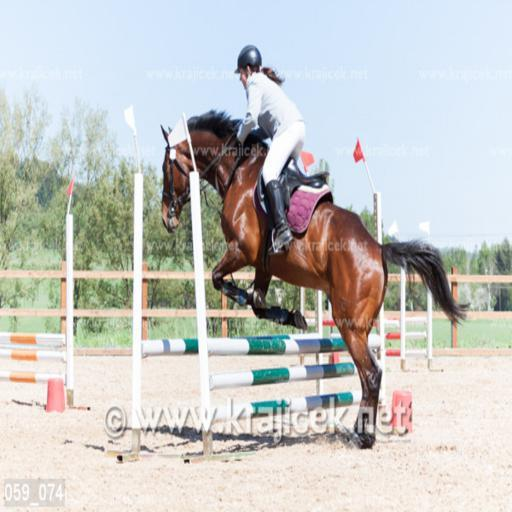Horse: (158, 104, 468, 450)
